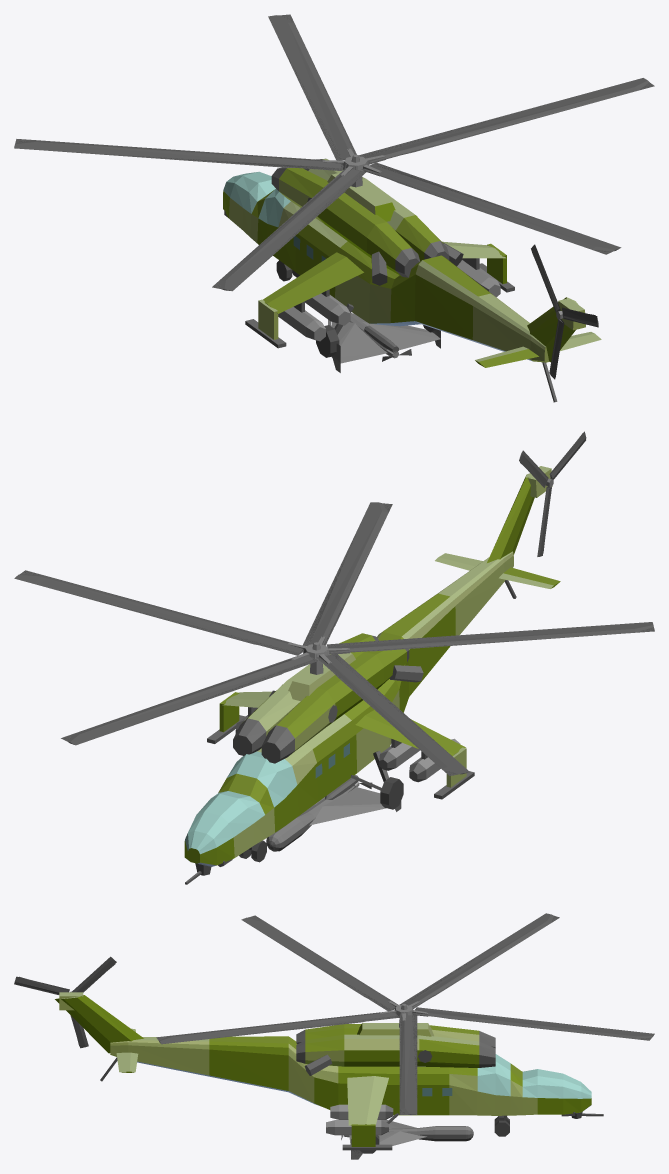
The model's file is drones.glb.
3 renders of one model, top to bottom at view 1: azimuth 30°, elevation 25°; view 2: azimuth 150°, elevation 25°; view 3: azimuth 270°, elevation 25°, orthographic. The views are drawn at different scales.
Parts seen in each view (by area): view 1: drones_102_lod0, drones_102_lod1_part1, drones_102_lod2_part1, drones_100_lod0, drones_102_lod0_part1, drones_102_lod0_part2; view 2: drones_102_lod0, drones_102_lod1_part1, drones_102_lod2_part1, drones_100_lod0, drones_102_lod0_part1, drones_102_lod0_part2, drones_101_lod0; view 3: drones_102_lod0, drones_102_lod1_part1, drones_102_lod2_part1, drones_100_lod0, drones_102_lod0_part2, drones_102_lod0_part1, drones_101_lod0.
Part boxes in pixels (x1,y1,x2,y2): drones_102_lod0: [223, 158, 601, 402]; drones_102_lod1_part1: [14, 15, 649, 290]; drones_102_lod2_part1: [14, 14, 654, 291]; drones_100_lod0: [331, 313, 440, 372]; drones_102_lod0_part1: [15, 23, 632, 290]; drones_102_lod0_part2: [531, 245, 598, 378]; drones_102_lod0: [184, 466, 560, 884]; drones_102_lod1_part1: [15, 502, 653, 774]; drones_102_lod2_part1: [14, 502, 654, 775]; drones_100_lod0: [278, 781, 401, 847]; drones_102_lod0_part1: [18, 511, 653, 773]; drones_102_lod0_part2: [519, 432, 586, 556]; drones_101_lod0: [266, 775, 358, 851]; drones_102_lod0: [55, 992, 603, 1153]; drones_102_lod1_part1: [159, 913, 654, 1114]; drones_102_lod2_part1: [156, 913, 654, 1114]; drones_100_lod0: [343, 1119, 462, 1159]; drones_102_lod0_part2: [14, 957, 116, 1047]; drones_102_lod0_part1: [159, 919, 654, 1115]; drones_101_lod0: [389, 1126, 473, 1141].
Size of what is drawn, in the model's own units: 261 by 108 by 350.
